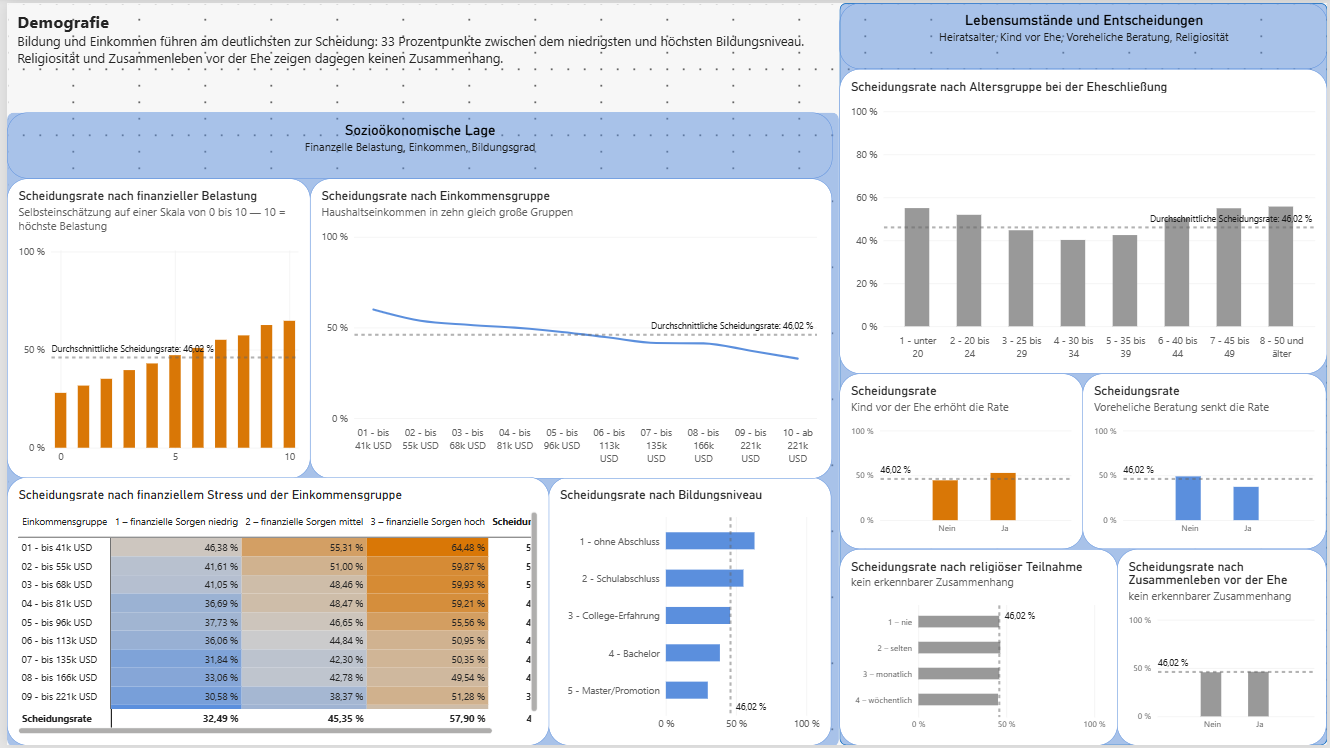

Layout of this report page (visuals, bound fields, positions):
{"tool":"powerbi","page":{"name":"Demografie","canvas":[1920,1080],"ordinal":1},"visuals":[{"type":"shape","box":[1210.2,0,709.8,1079.7],"z":0},{"type":"shape","title":"Demografie","box":[0,158.6,1210.2,922.2],"z":1000},{"type":"clusteredColumnChart","title":"Scheidungsrate nach finanzieller Belastung","fields":{"Category":["Ehen.financial_stress_gruppiert"],"Y":["Ehen.Scheidungsquote"]},"box":[0,254.9,441.4,437],"z":2000},{"type":"clusteredBarChart","title":"Scheidungsrate nach Bildungsniveau","fields":{"Category":["Ehen.education_level_sorted"],"Y":["_Measures.Scheidungsquote"]},"box":[788.6,690.3,411.4,390.9],"z":3000},{"type":"clusteredBarChart","title":"Scheidungsrate nach religiöser Teilnahme","fields":{"Category":["Ehen.Religiosität"],"Y":["_Measures.Scheidungsquote"]},"box":[1210.5,794.5,405,285.8],"z":4000},{"type":"clusteredColumnChart","title":"Scheidungsrate","fields":{"Category":["Ehen.child_before_marriage_yesno"],"Y":["_Measures.Scheidungsquote"]},"box":[1210.2,539.3,354.9,255.6],"z":5000},{"type":"lineChart","title":"Scheidungsrate nach Einkommensgruppe","fields":{"Category":["Ehen.Einkommensgruppe"],"Y":["_Measures.Scheidungsquote"]},"box":[441.4,254.9,759.2,437],"z":6000},{"type":"pivotTable","title":"Scheidungsrate nach finanziellem Stress und der Einkommensgruppe","fields":{"Columns":["Ehen.financial_stress_high"],"Rows":["Ehen.Einkommensgruppe"],"Values":["_Measures.Scheidungsquote"]},"box":[0,690.3,788.6,390.9],"z":7000},{"type":"clusteredColumnChart","title":"Scheidungsrate","fields":{"Category":["Ehen.premarital_counseling_yesno"],"Y":["_Measures.Scheidungsquote"]},"box":[1565.1,539.3,354.9,255.6],"z":8000},{"type":"clusteredColumnChart","title":"Scheidungsrate nach Altersgruppe bei der Eheschließung","fields":{"Category":["Ehen.Altersgruppe_Eheschließung"],"Y":["_Measures.Scheidungsquote"]},"box":[1210.5,96,709.5,443.6],"z":9000},{"type":"textbox","title":"Sozioökonomische Lage","box":[0,158.9,1200.6,96],"z":10000},{"type":"clusteredColumnChart","title":"Scheidungsrate nach Zusammenleben vor der Ehe","fields":{"Category":["Ehen.cohabited_before_yesno"],"Y":["_Measures.Scheidungsquote"]},"box":[1615.4,794.5,304.6,285.8],"z":11000},{"type":"textbox","box":[0,0,1200.5,158.6],"z":12000},{"type":"textbox","title":"Lebensumstände und Entscheidungen","box":[1210.2,0,709.8,96],"z":13000}]}

Visuals, with their boxes in screenshot pixels (x1, y1, x2, y2), scaled from the page's 1920x1080 canvas onto the 1330x748 screenshot:
shape: <region>838, 0, 1329, 747</region>
"Demografie" shape: <region>0, 110, 838, 747</region>
"Scheidungsrate nach finanzieller Belastung" clusteredColumnChart: <region>0, 177, 306, 479</region>
"Scheidungsrate nach Bildungsniveau" clusteredBarChart: <region>546, 478, 831, 747</region>
"Scheidungsrate nach religiöser Teilnahme" clusteredBarChart: <region>839, 550, 1119, 747</region>
"Scheidungsrate" clusteredColumnChart: <region>838, 374, 1084, 551</region>
"Scheidungsrate nach Einkommensgruppe" lineChart: <region>306, 177, 832, 479</region>
"Scheidungsrate nach finanziellem Stress und der Einkommensgruppe" pivotTable: <region>0, 478, 546, 747</region>
"Scheidungsrate" clusteredColumnChart: <region>1084, 374, 1329, 551</region>
"Scheidungsrate nach Altersgruppe bei der Eheschließung" clusteredColumnChart: <region>839, 66, 1329, 374</region>
"Sozioökonomische Lage" textbox: <region>0, 110, 832, 177</region>
"Scheidungsrate nach Zusammenleben vor der Ehe" clusteredColumnChart: <region>1119, 550, 1329, 747</region>
textbox: <region>0, 0, 832, 110</region>
"Lebensumstände und Entscheidungen" textbox: <region>838, 0, 1329, 66</region>
